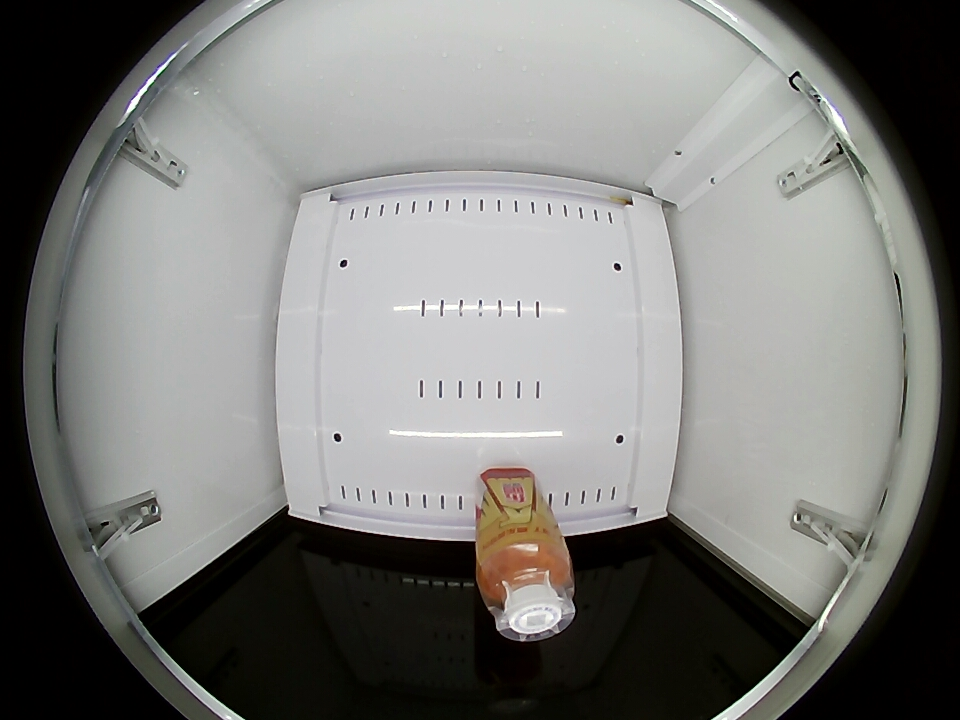dongpeng-b: (476, 535, 577, 640)
